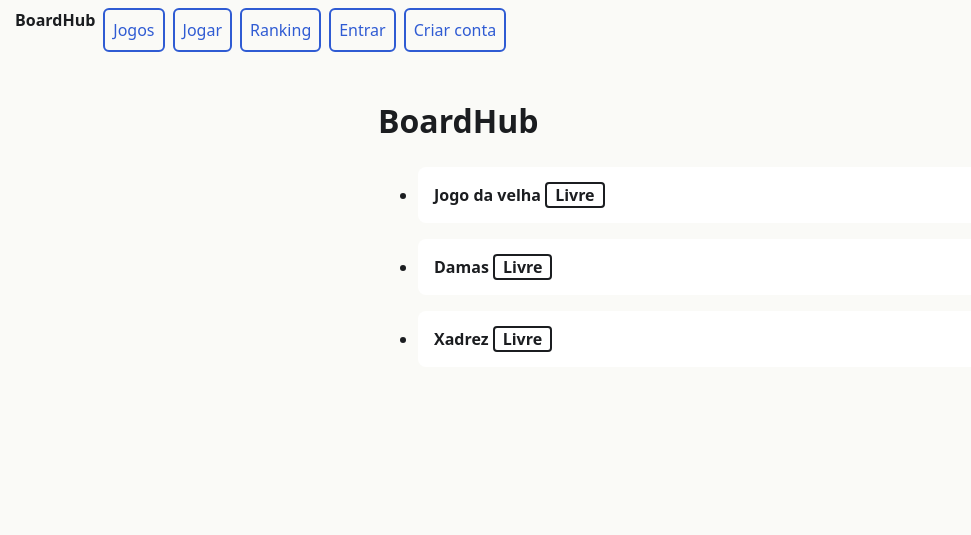
Test: o menu Ranking aparece para visitantes e abre a página
The width and height of the screenshot is (971, 535).
Click the button "Ranking".
click(281, 30)  # box 240,8 -> 321,52
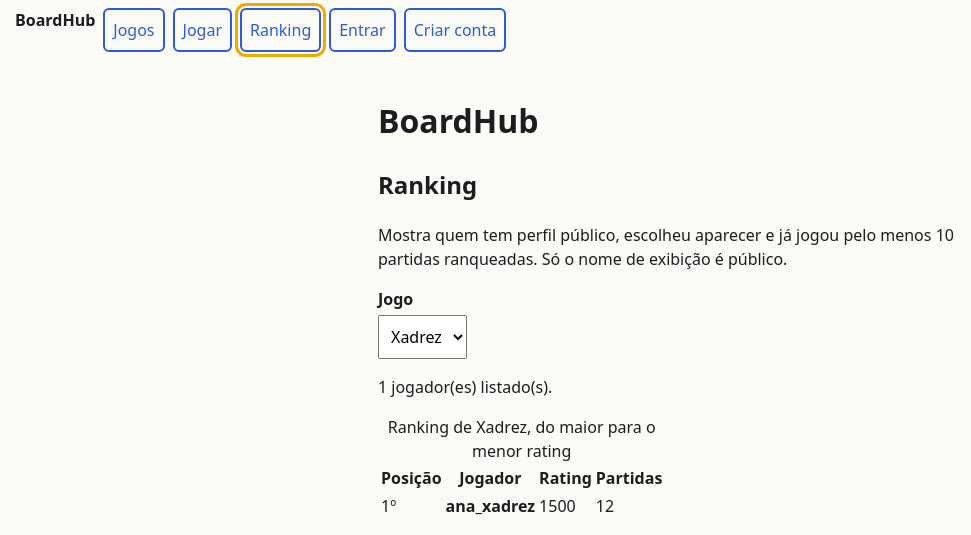
Now the heading "Ranking" is shown, box 378,168 -> 477,201
Now the column heading "ana_xadrez" is shown, box 445,493 -> 536,519
